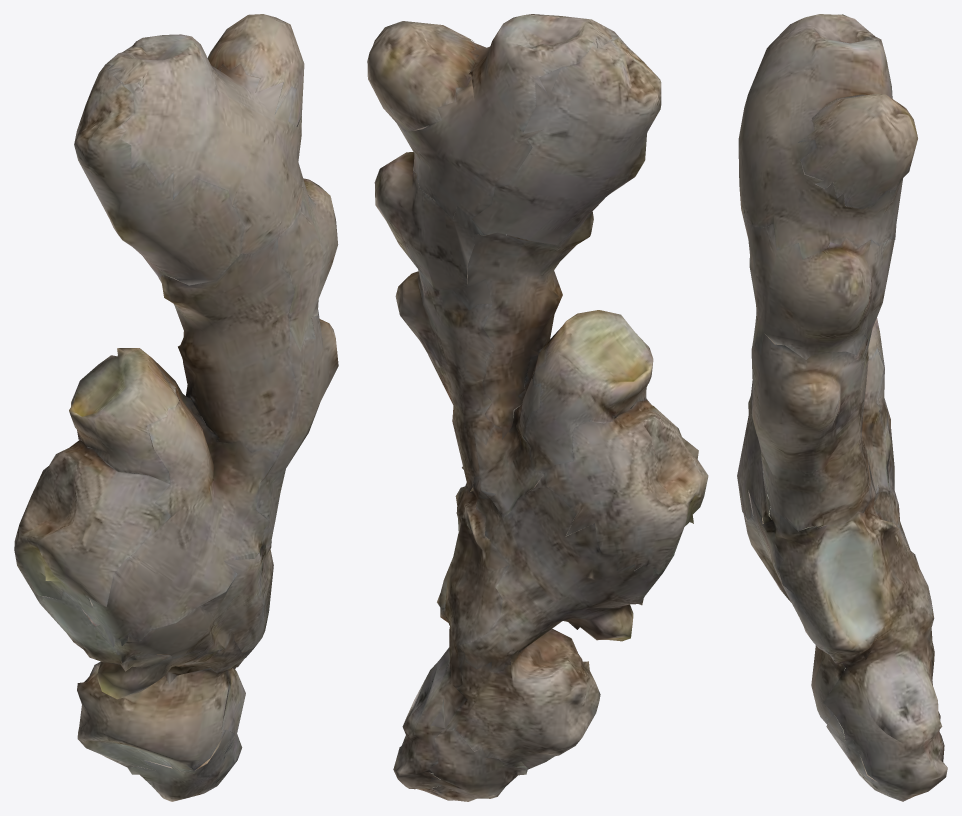
The model's file is runtime.glb.
The picture shows the model from 3 angles, left to right: view 1: azimuth 30°, elevation 25°; view 2: azimuth 150°, elevation 25°; view 3: azimuth 270°, elevation 25°; orthographic projection. The views are drawn at different scales.
Parts seen in each view (by area): view 1: food_ginger_01; view 2: food_ginger_01; view 3: food_ginger_01.
Boxes of the visible parts, bbox=[...] form: food_ginger_01: bbox=[14, 14, 338, 801]; food_ginger_01: bbox=[367, 14, 708, 801]; food_ginger_01: bbox=[737, 14, 947, 801].
Bounding box in the file's own units: 0.2409 × 0.5743 × 0.1486.
1 material, 1 textured.
